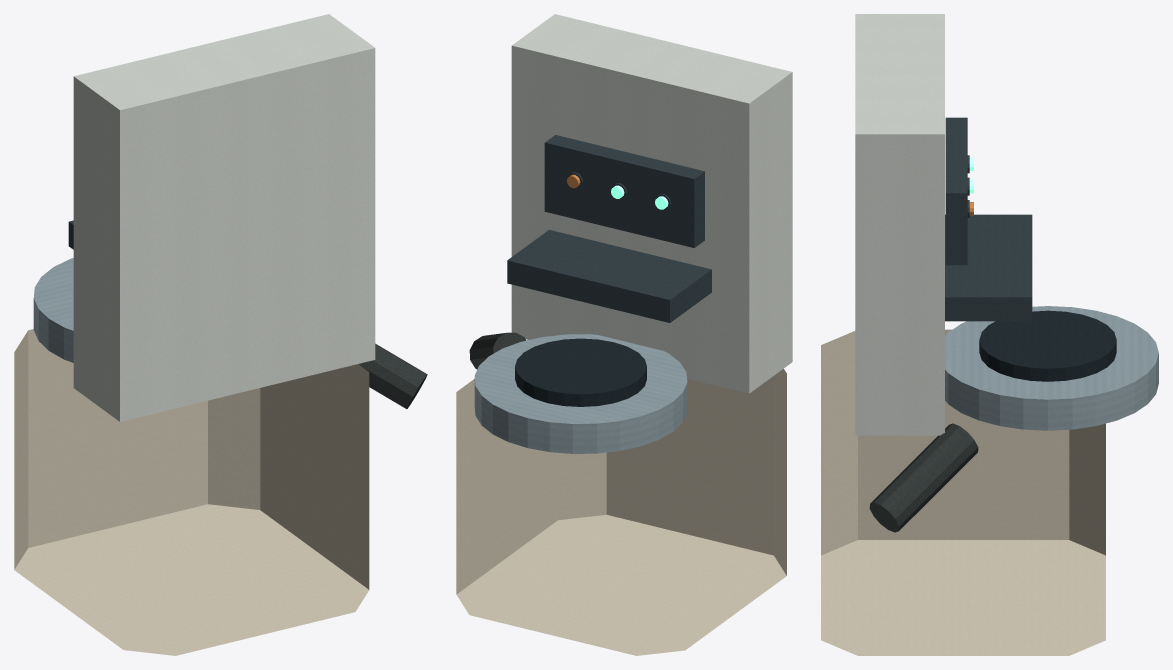
Rendered from hygiene_toilet.glb.
3 views of the same model, side by side, from view 1: azimuth 30°, elevation 25°; view 2: azimuth 150°, elevation 25°; view 3: azimuth 270°, elevation 25° (orthographic). The views are drawn at different scales.
Parts seen in each view (by area): view 1: Service_Back__shell, Pedestal__cream, Waste_Seat__alloy, Waste_Connection__rubber; view 2: Pedestal__cream, Service_Back__shell, Waste_Seat__alloy, Sanitation_Control__graphite, Lid__graphite, Sealed_Collection_Bowl__carbon, Waste_Connection__rubber; view 3: Pedestal__cream, Service_Back__shell, Waste_Seat__alloy, Lid__graphite, Sealed_Collection_Bowl__carbon, Waste_Connection__rubber, Sanitation_Control__graphite.
Boxes of the visible parts, box(x1,y1,x2,y2) form: Service_Back__shell: box(73, 14, 375, 421); Pedestal__cream: box(14, 329, 369, 655); Waste_Seat__alloy: box(33, 258, 73, 362); Waste_Connection__rubber: box(358, 343, 427, 408); Pedestal__cream: box(456, 339, 786, 655); Service_Back__shell: box(511, 14, 792, 393); Waste_Seat__alloy: box(474, 334, 687, 453); Sanitation_Control__graphite: box(544, 135, 704, 247); Lid__graphite: box(507, 229, 711, 322); Sealed_Collection_Bowl__carbon: box(515, 338, 646, 406); Waste_Connection__rubber: box(469, 332, 526, 369); Pedestal__cream: box(821, 329, 1105, 655); Service_Back__shell: box(855, 14, 944, 435); Waste_Seat__alloy: box(945, 306, 1158, 430); Lid__graphite: box(945, 214, 1032, 321); Sealed_Collection_Bowl__carbon: box(979, 310, 1116, 381); Waste_Connection__rubber: box(869, 423, 978, 532); Sanitation_Control__graphite: box(945, 117, 969, 265).
Size of the model in its own units: 0.69 by 1.1 by 0.64.
Materials: 8 (8 with a texture image).
